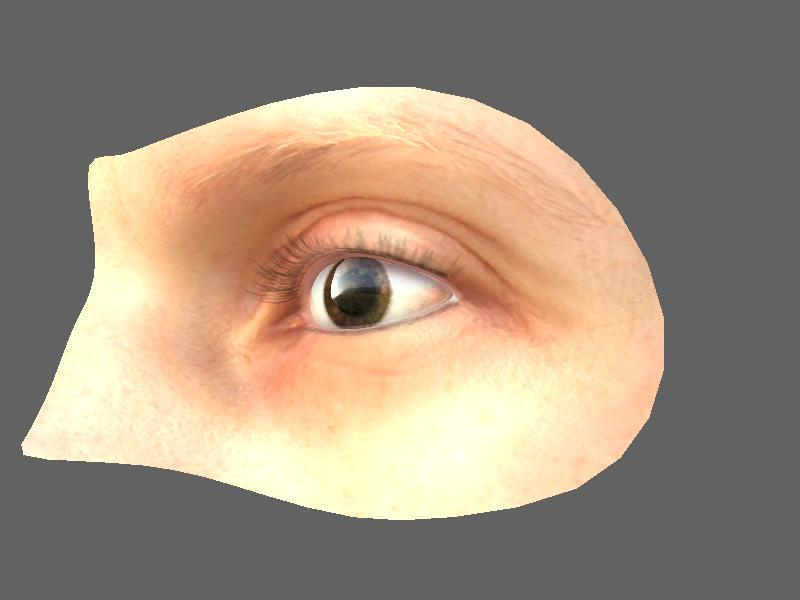iris: (318, 259, 396, 333)
